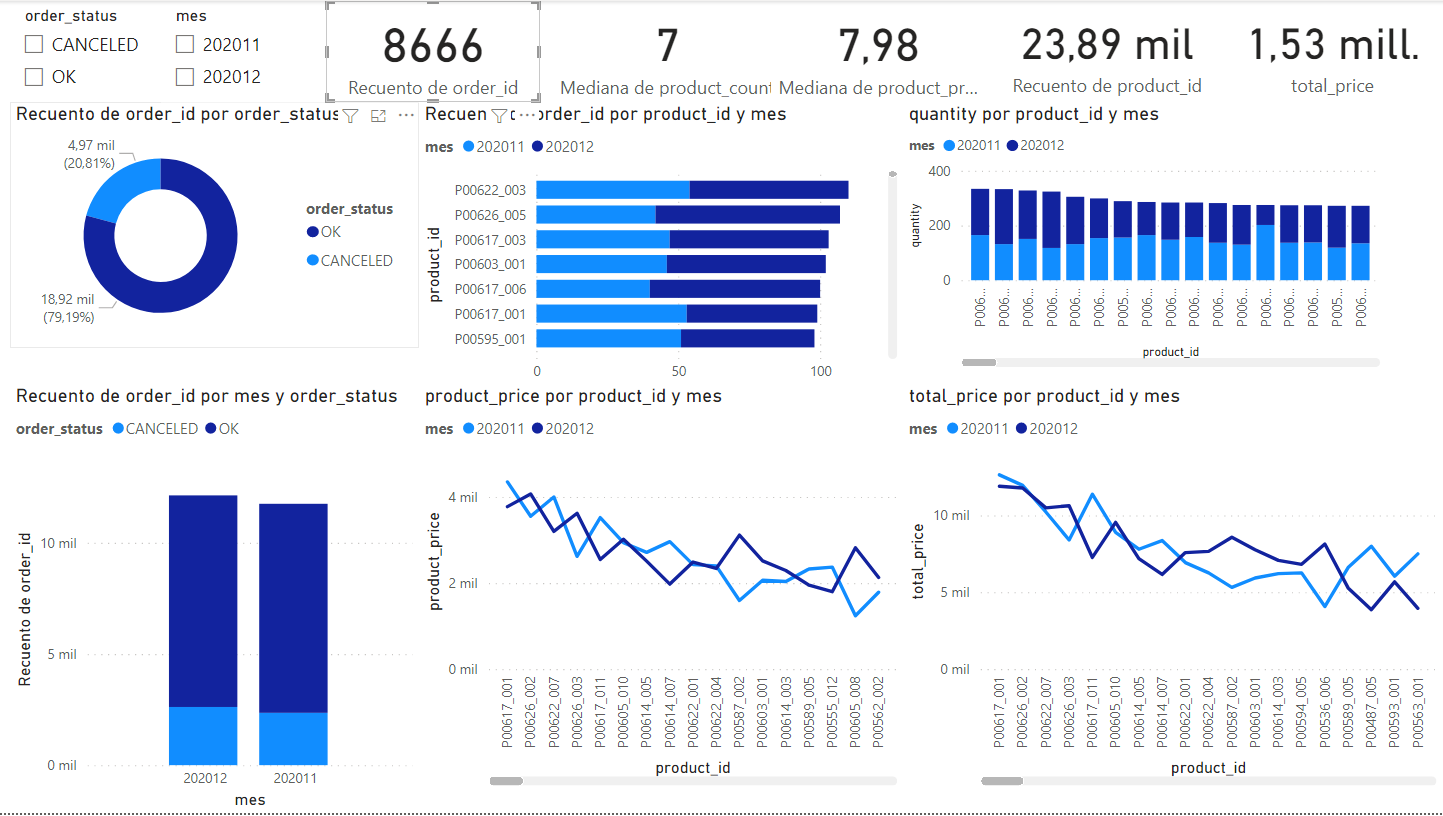

The dashboard page shown, as its layout file describes it:
{"tool":"powerbi","page":{"name":"Página 1","canvas":[1280,720],"ordinal":0},"visuals":[{"type":"slicer","fields":{"Values":["shopee tbl_product_month.order_status"]},"box":[10.2,0,133.5,89.9],"z":0},{"type":"donutChart","fields":{"Category":["shopee tbl_product_month.order_status"],"Y":["CountNonNull(shopee tbl_product_month.order_id)"]},"box":[10.2,89.9,362.4,217.8],"z":1000},{"type":"columnChart","fields":{"Category":["shopee tbl_product_month.mes"],"Y":["CountNonNull(shopee tbl_product_month.order_id)"],"Series":["shopee tbl_product_month.order_status"]},"box":[10.2,339.2,362.4,380.9],"z":2000},{"type":"barChart","fields":{"Category":["shopee tbl_product_month.product_id"],"Y":["CountNonNull(shopee tbl_product_month.order_id)"],"Series":["shopee tbl_product_month.mes"]},"box":[372.6,89.9,429.1,269.7],"z":3000},{"type":"lineChart","fields":{"Y":["Sum(shopee tbl_product_month.product_price)"],"Category":["shopee tbl_product_month.product_id"],"Series":["shopee tbl_product_month.mes"]},"box":[372.6,339.2,429.1,360.6],"z":4000},{"type":"columnChart","fields":{"Y":["Sum(shopee tbl_product_month.quantity)"],"Category":["shopee tbl_product_month.product_id"],"Series":["shopee tbl_product_month.mes"]},"box":[801.7,89.9,428.2,240.1],"z":5000},{"type":"lineChart","fields":{"Y":["Sum(shopee tbl_product_month.total_price)"],"Category":["shopee tbl_product_month.product_id"],"Series":["shopee tbl_product_month.mes"]},"box":[801.7,339.2,478.3,360.6],"z":6000},{"type":"card","fields":{"Values":["Sum(shopee tbl_product_month.total_price)"]},"box":[1084.4,0,195.6,89.9],"z":6001},{"type":"card","fields":{"Values":["Median(shopee vw_month_orders.product_count)"]},"box":[485.7,0,213.2,89.9],"z":6002},{"type":"card","fields":{"Values":["Median(shopee tbl_product_month.product_price)"]},"box":[685,0,190,89.9],"z":6003},{"type":"card","fields":{"Values":["CountNonNull(shopee tbl_product_month.product_id)"]},"box":[875,0,215,89.9],"z":6004},{"type":"card","fields":{"Values":["Count(shopee tbl_product_month.order_id)"]},"box":[290.1,0,190,89.9],"z":6005},{"type":"slicer","fields":{"Values":["shopee tbl_product_month.mes"]},"box":[143.7,0,146.4,89.9],"z":6006}]}

Visuals, with their boxes in screenshot pixels (x1, y1, x2, y2), scaled from the page's 1280x720 canvas onto the 1443x816 screenshot:
slicer - shopee tbl_product_month.order_status: {"left": 11, "top": 0, "right": 162, "bottom": 102}
donutChart - shopee tbl_product_month.order_status x CountNonNull(shopee tbl_product_month.order_id): {"left": 11, "top": 102, "right": 420, "bottom": 349}
columnChart - shopee tbl_product_month.mes x CountNonNull(shopee tbl_product_month.order_id): {"left": 11, "top": 384, "right": 420, "bottom": 815}
barChart - shopee tbl_product_month.product_id x CountNonNull(shopee tbl_product_month.order_id): {"left": 420, "top": 102, "right": 904, "bottom": 408}
lineChart - Sum(shopee tbl_product_month.product_price) x shopee tbl_product_month.product_id: {"left": 420, "top": 384, "right": 904, "bottom": 793}
columnChart - Sum(shopee tbl_product_month.quantity) x shopee tbl_product_month.product_id: {"left": 904, "top": 102, "right": 1387, "bottom": 374}
lineChart - Sum(shopee tbl_product_month.total_price) x shopee tbl_product_month.product_id: {"left": 904, "top": 384, "right": 1442, "bottom": 793}
card - Sum(shopee tbl_product_month.total_price): {"left": 1222, "top": 0, "right": 1442, "bottom": 102}
card - Median(shopee vw_month_orders.product_count): {"left": 548, "top": 0, "right": 788, "bottom": 102}
card - Median(shopee tbl_product_month.product_price): {"left": 772, "top": 0, "right": 986, "bottom": 102}
card - CountNonNull(shopee tbl_product_month.product_id): {"left": 986, "top": 0, "right": 1229, "bottom": 102}
card - Count(shopee tbl_product_month.order_id): {"left": 327, "top": 0, "right": 541, "bottom": 102}
slicer - shopee tbl_product_month.mes: {"left": 162, "top": 0, "right": 327, "bottom": 102}
